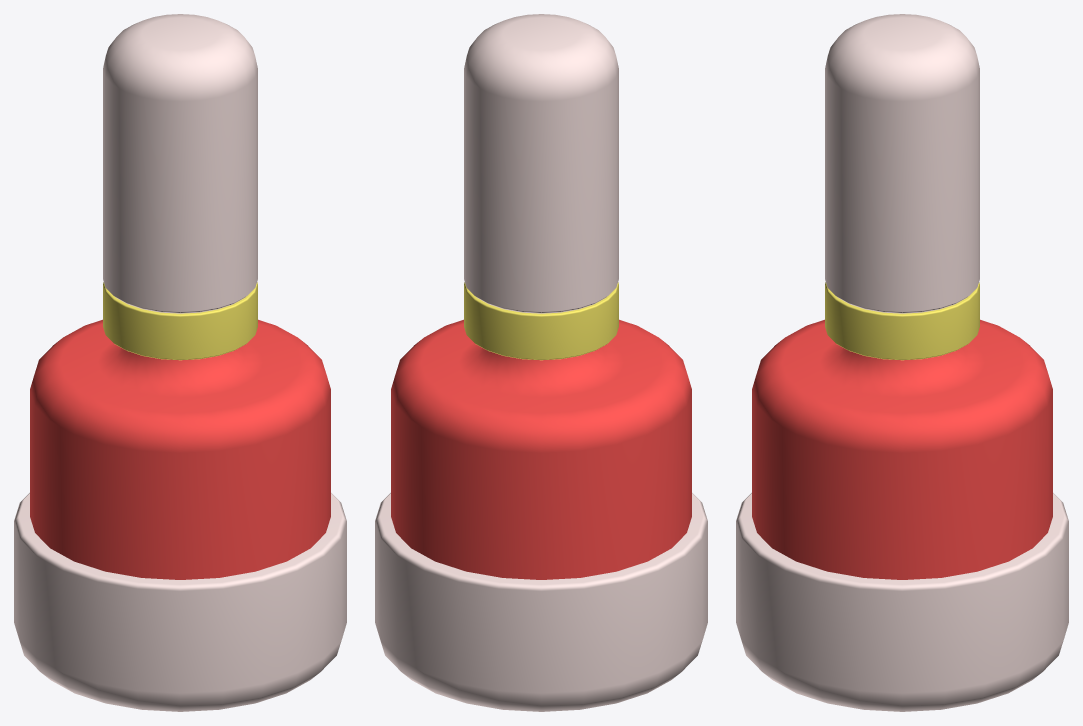
File: Store_17_Nail_Varnish_1.glb
The picture shows the model from 3 angles, left to right: view 1: azimuth 30°, elevation 25°; view 2: azimuth 150°, elevation 25°; view 3: azimuth 270°, elevation 25°; orthographic projection.
Visible parts, largest first — view 1: Store_17_Nail_Varnish_1; view 2: Store_17_Nail_Varnish_1; view 3: Store_17_Nail_Varnish_1.
Part boxes in pixels (x1,y1,x2,y2): Store_17_Nail_Varnish_1: [14, 14, 346, 711]; Store_17_Nail_Varnish_1: [375, 14, 707, 711]; Store_17_Nail_Varnish_1: [736, 14, 1068, 711].
Size of the model in its own units: 0.326 by 0.6688 by 0.3261.
Materials: 1 (1 with a texture image).
